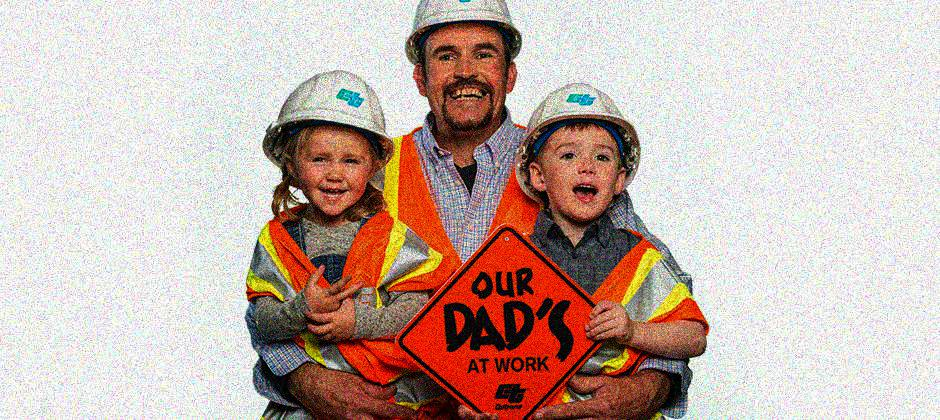helmet: (517, 80, 640, 225), (275, 69, 392, 213), (404, 1, 523, 129)
